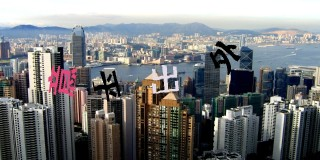出: (148, 63, 182, 94)
外: (210, 39, 241, 74)
平: (92, 69, 123, 101)
意: (47, 64, 79, 96)
